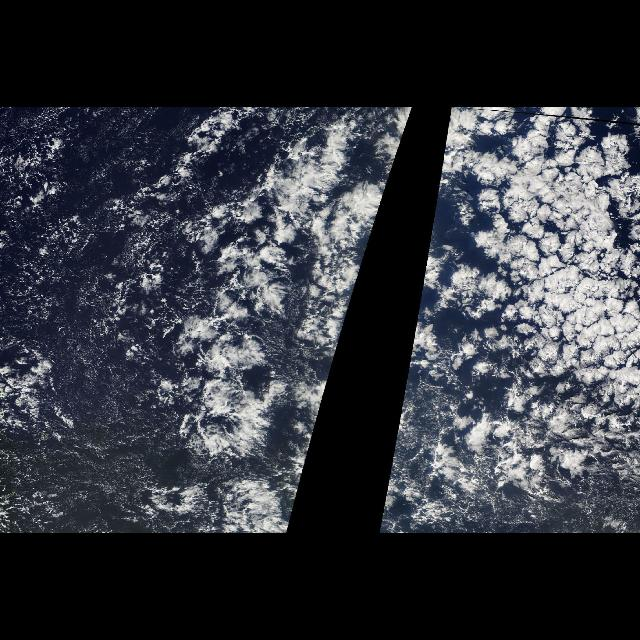Flower: (462, 128, 640, 438)
Gravel: (5, 113, 172, 509)
Sugar: (4, 180, 246, 532)
